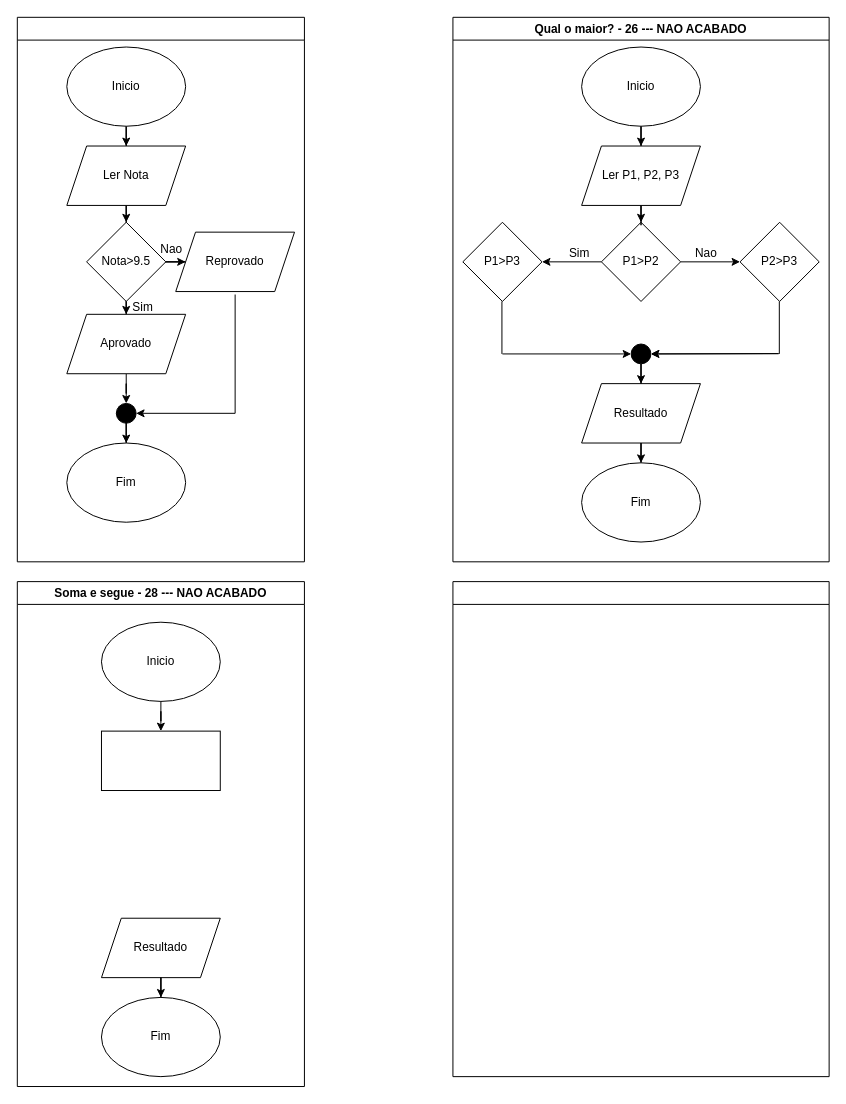
Some shapes in this 846 by 1104 pixel diagram are drawn without their labels. Here are the shapes that lost their labels. From the top down, the centre of each, then its label:
the point at 160,289: Passar de ano - 25 --- ACABADO
the point at 160,760: Quantos numeros quer somar ?
the point at 640,829: Somar ate cair - 27 --- NAO ENTENDI BULHUFAS
